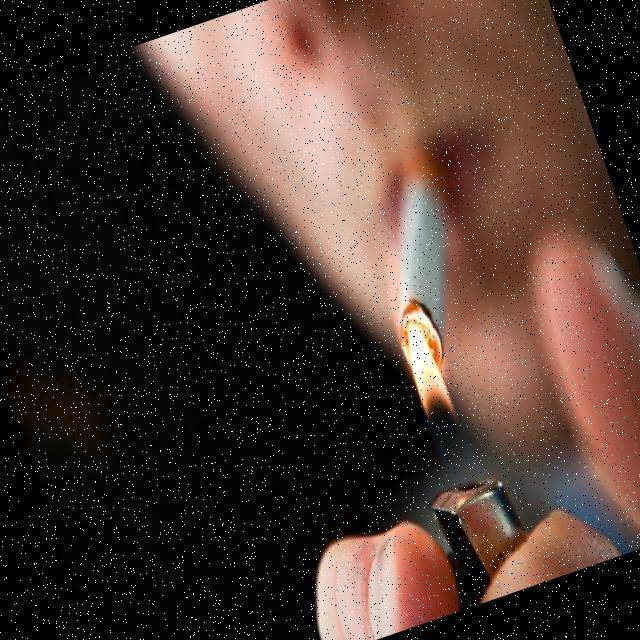cigarette: (335, 136, 504, 384)
